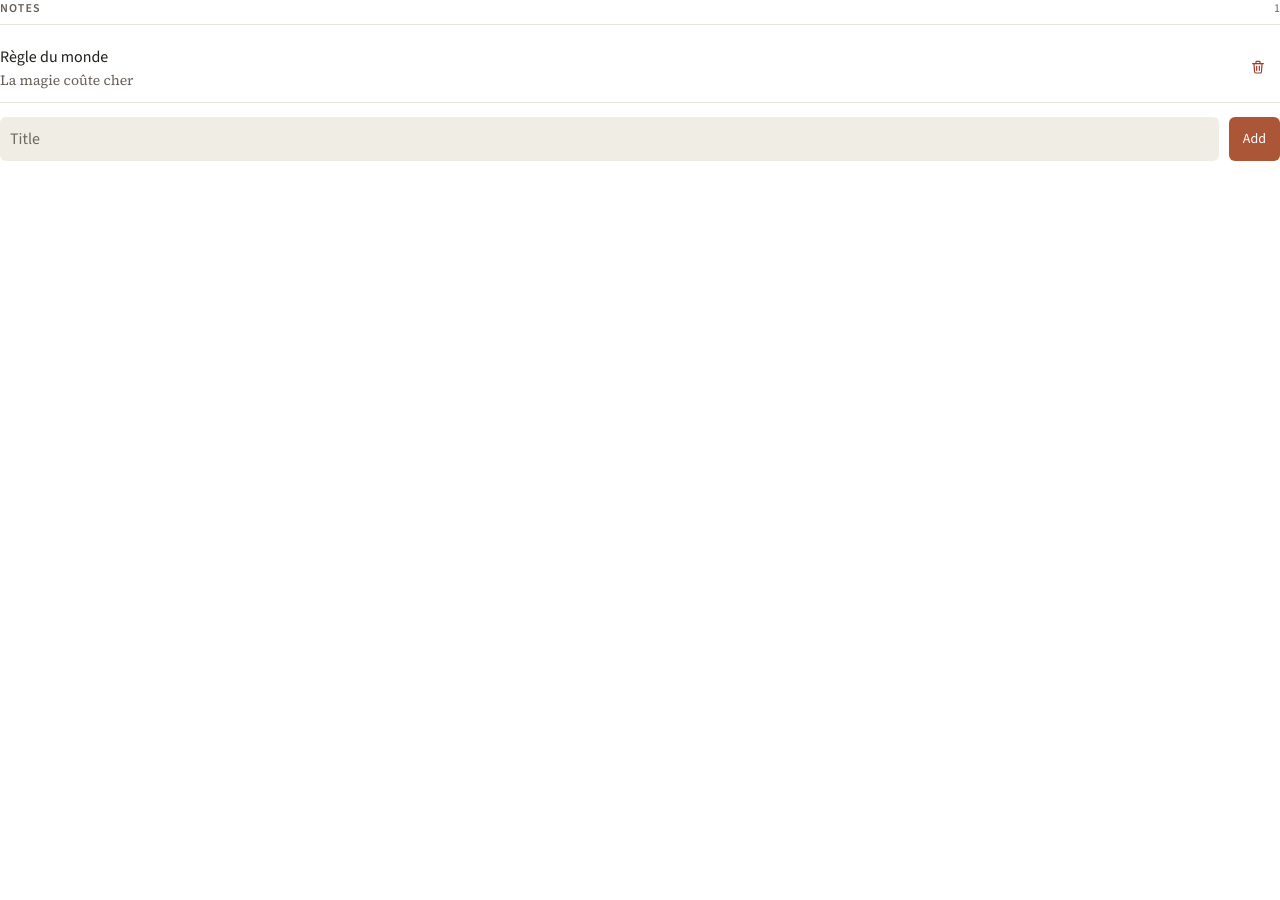
it: NotesPanel › asks for confirmation before deleting, and does not delete until confirmed
Check: the text "Règle du monde" is shown, box [0,46,108,67]
Click the button with test id "note-delete-button". click: point(1258, 67)
box: [1236,45,1279,89]
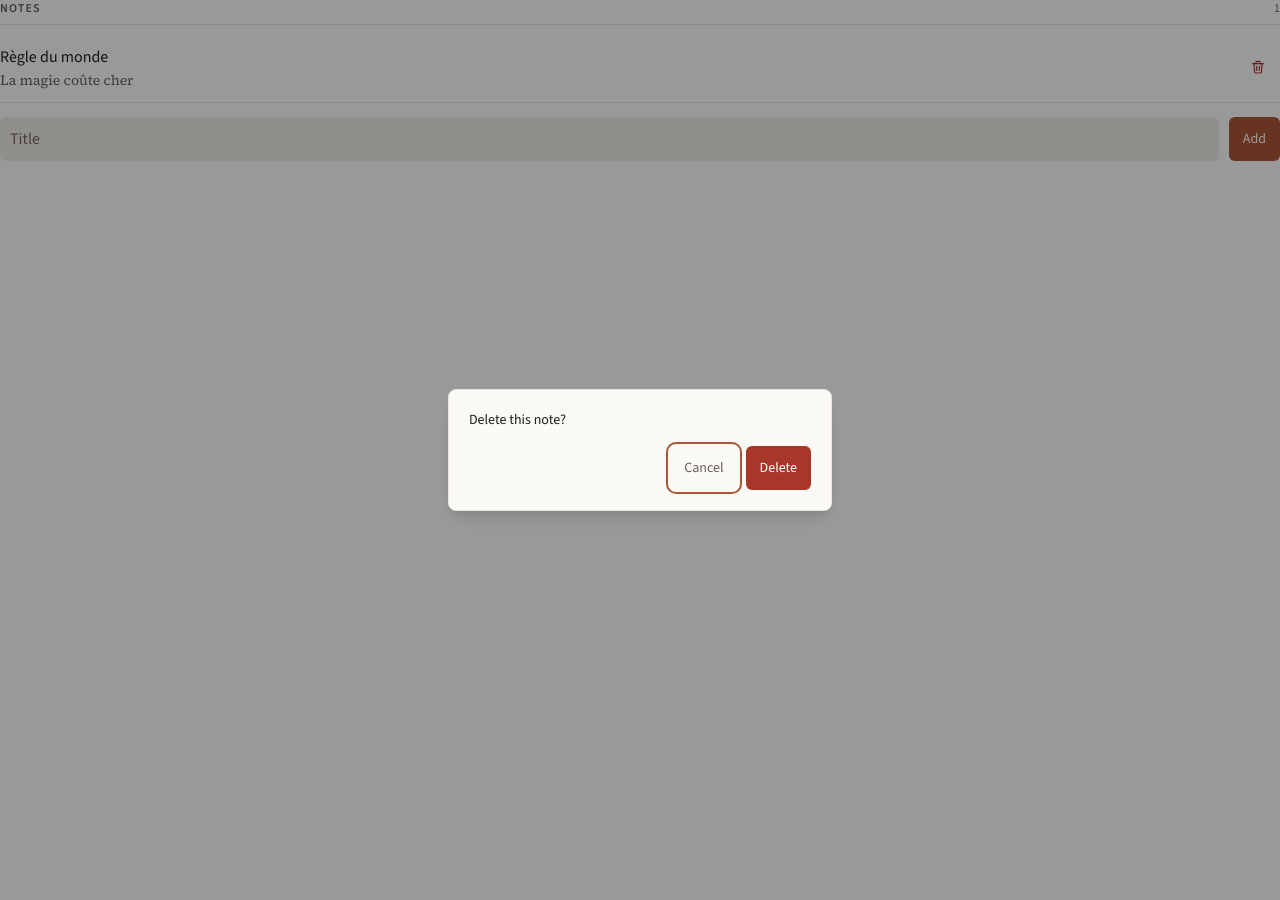
Check: the link with test id "note-item" is shown, box [0,46,134,90]
Check: the dialog with test id "confirm-dialog" is shown, box [448,389,832,511]
Click the button with test id "confirm-dialog-confirm". click: point(778, 468)
box: [746,446,811,490]
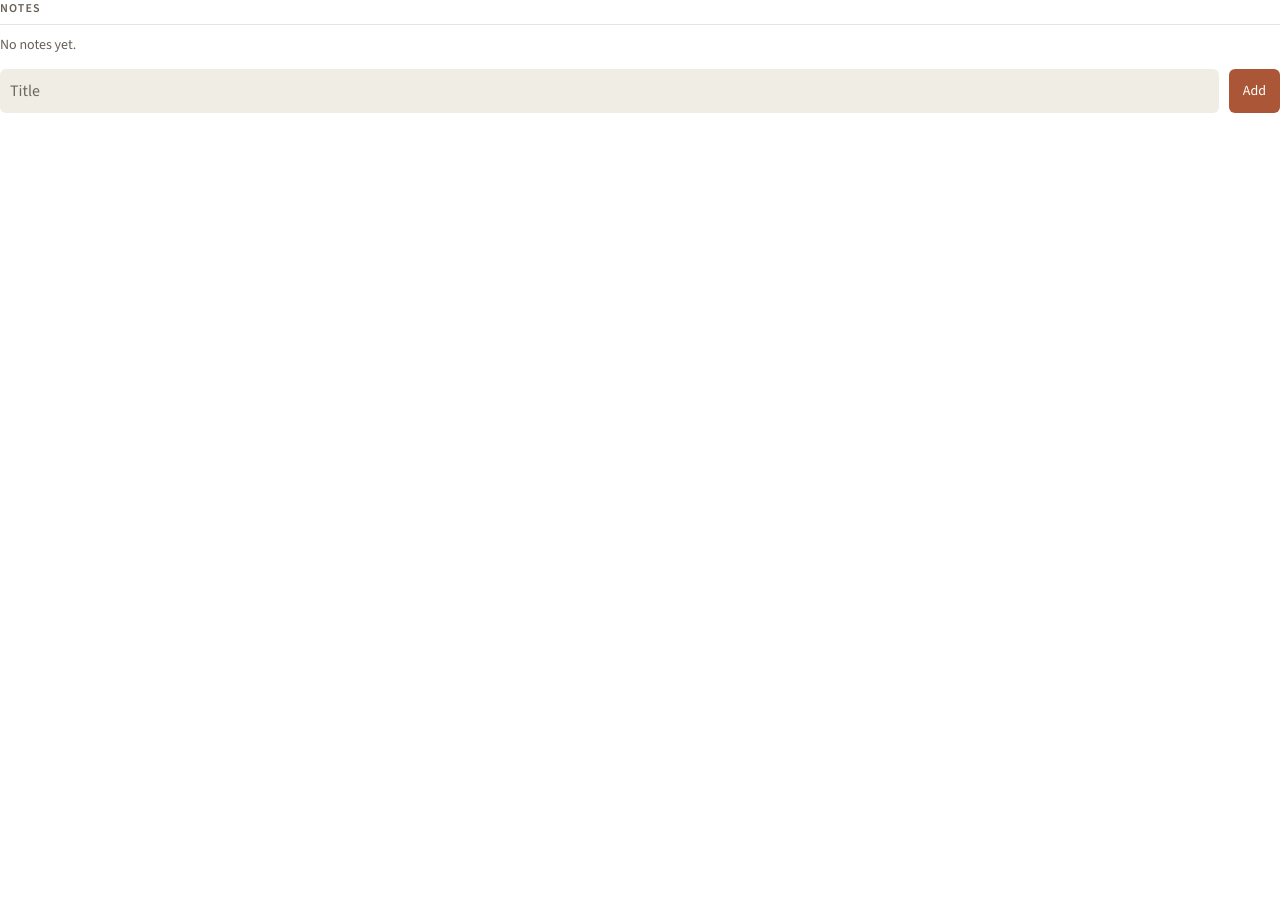
Check: the link with test id "note-item" is gone
